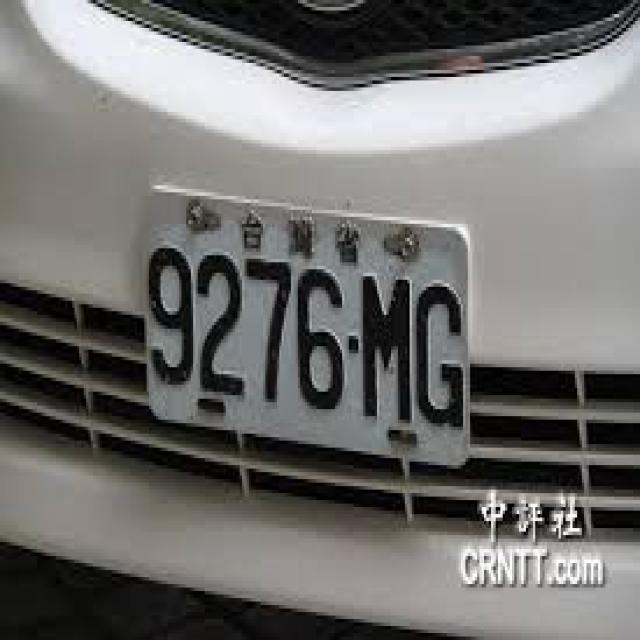W: (141, 185, 469, 468)
